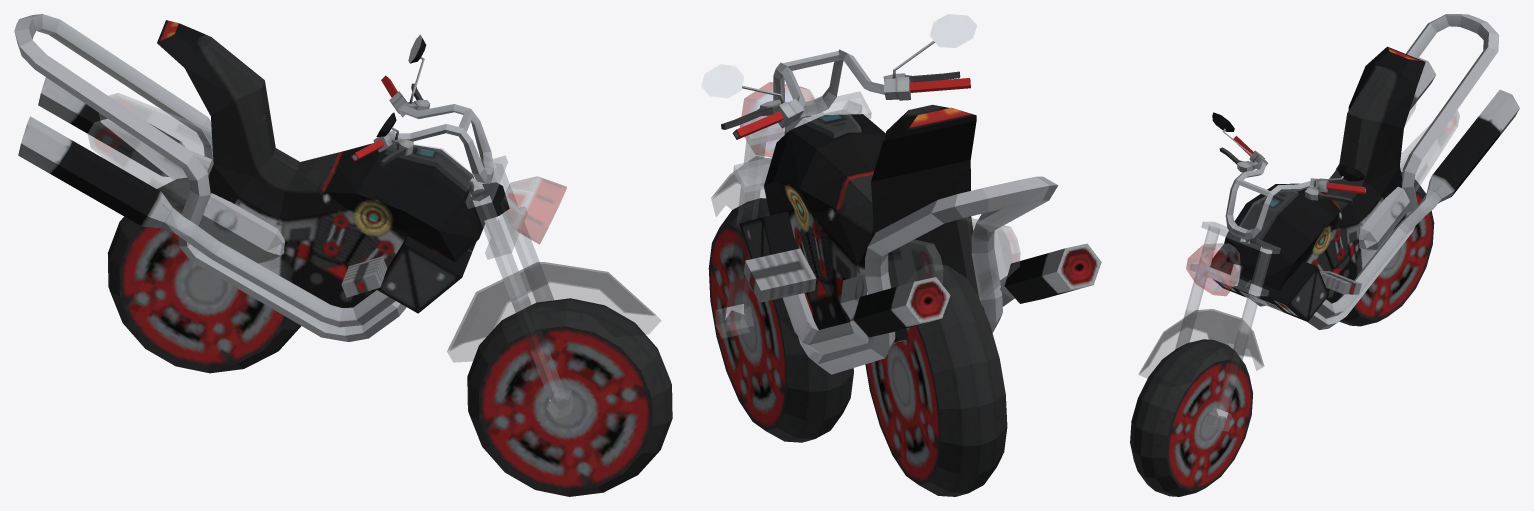
Rendered from Bike.glb.
3 views of the same model, side by side, from view 1: azimuth 30°, elevation 25°; view 2: azimuth 150°, elevation 25°; view 3: azimuth 270°, elevation 25° (orthographic). The views are drawn at different scales.
Visible parts, largest first — view 1: Bike; view 2: Bike; view 3: Bike.
Boxes of the visible parts, x1,y1,x2,y2 form: Bike: [14, 14, 672, 496]; Bike: [701, 14, 1101, 496]; Bike: [1130, 14, 1519, 496].
Size of the model in its own units: 5.04 by 4.29 by 4.48.
Materials: 2 (2 with a texture image).
